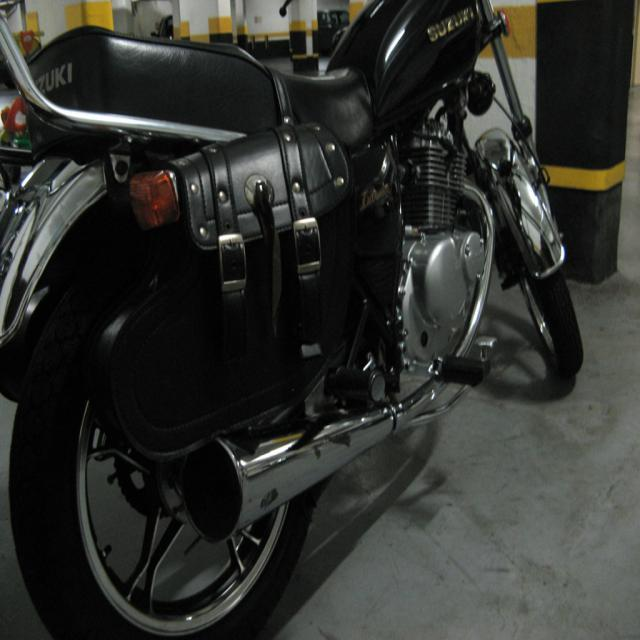bus: (0, 0, 584, 638)
